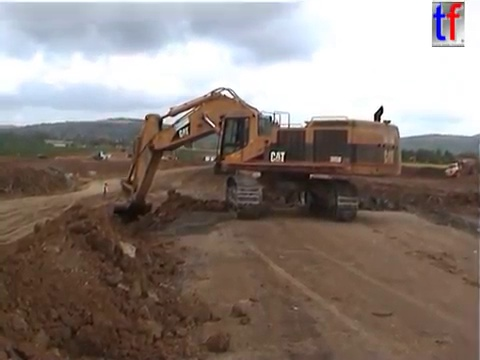excavator: (108, 84, 403, 236)
truck: (443, 156, 479, 180), (90, 149, 111, 162)
worker: (101, 180, 110, 201)
